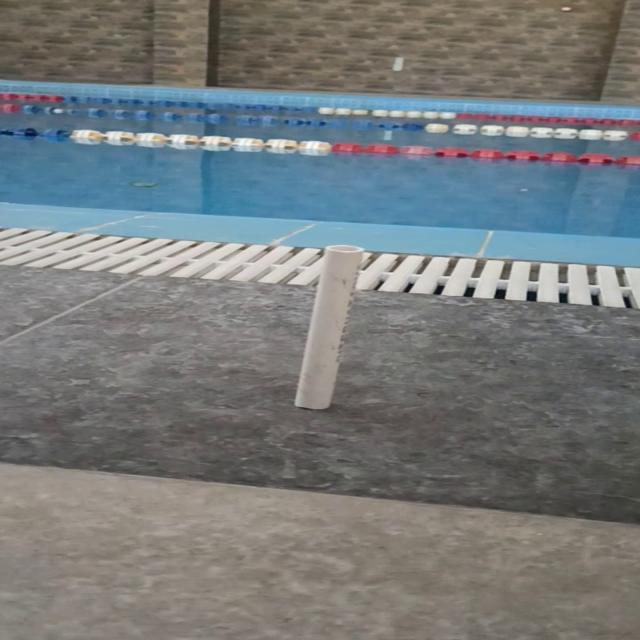Cube: (292, 244, 364, 410)
